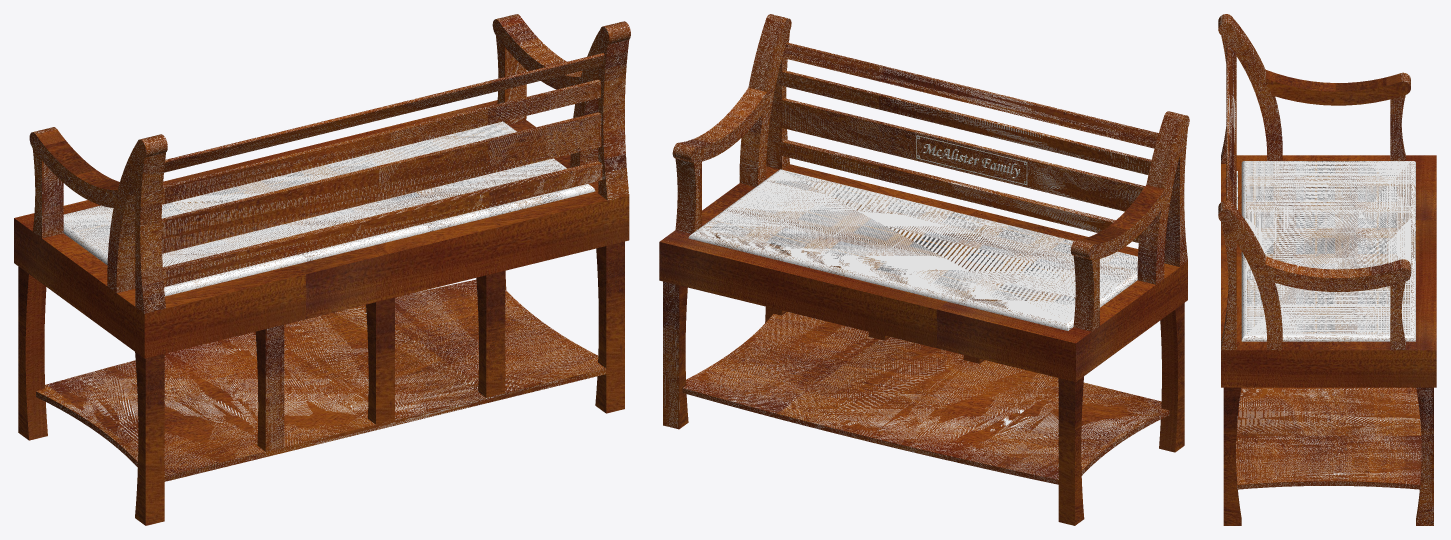
The picture shows the model from 3 angles, left to right: view 1: azimuth 30°, elevation 25°; view 2: azimuth 150°, elevation 25°; view 3: azimuth 270°, elevation 25°; orthographic projection. The views are drawn at different scales.
Visible parts, largest first — view 1: mesh66_mesh66-geometry, mesh67_mesh67-geometry, mesh1_mesh1-geometry, mesh21_mesh21-geometry, mesh19_mesh19-geometry, mesh60_mesh60-geometry; view 2: mesh66_mesh66-geometry, mesh67_mesh67-geometry, mesh21_mesh21-geometry, mesh1_mesh1-geometry, mesh60_mesh60-geometry, mesh19_mesh19-geometry, mesh17_mesh17-geometry; view 3: mesh21_mesh21-geometry, mesh66_mesh66-geometry, mesh1_mesh1-geometry, mesh67_mesh67-geometry, mesh60_mesh60-geometry, mesh19_mesh19-geometry, mesh17_mesh17-geometry.
Part boxes in pixels (bbox=[...]): mesh66_mesh66-geometry: bbox=[36, 271, 606, 481]; mesh67_mesh67-geometry: bbox=[161, 14, 630, 286]; mesh1_mesh1-geometry: bbox=[14, 100, 629, 358]; mesh21_mesh21-geometry: bbox=[63, 121, 595, 296]; mesh19_mesh19-geometry: bbox=[18, 241, 624, 525]; mesh60_mesh60-geometry: bbox=[29, 127, 167, 313]; mesh66_mesh66-geometry: bbox=[682, 312, 1169, 484]; mesh67_mesh67-geometry: bbox=[672, 14, 1158, 242]; mesh21_mesh21-geometry: bbox=[688, 169, 1137, 330]; mesh1_mesh1-geometry: bbox=[659, 164, 1187, 381]; mesh60_mesh60-geometry: bbox=[1070, 111, 1189, 331]; mesh19_mesh19-geometry: bbox=[765, 303, 1184, 525]; mesh17_mesh17-geometry: bbox=[663, 281, 688, 429]; mesh21_mesh21-geometry: bbox=[1241, 161, 1415, 341]; mesh66_mesh66-geometry: bbox=[1236, 387, 1421, 489]; mesh1_mesh1-geometry: bbox=[1221, 155, 1436, 387]; mesh67_mesh67-geometry: bbox=[1218, 44, 1410, 350]; mesh60_mesh60-geometry: bbox=[1218, 14, 1410, 163]; mesh19_mesh19-geometry: bbox=[1223, 387, 1241, 525]; mesh17_mesh17-geometry: bbox=[1416, 387, 1433, 525].
Size of the model in its own units: 0.7453 by 0.5661 by 0.3522.
